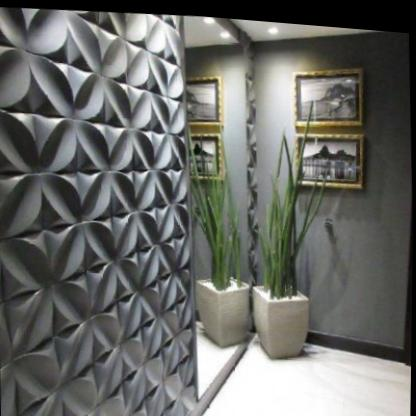Futech tiles: (0, 15, 190, 416)
